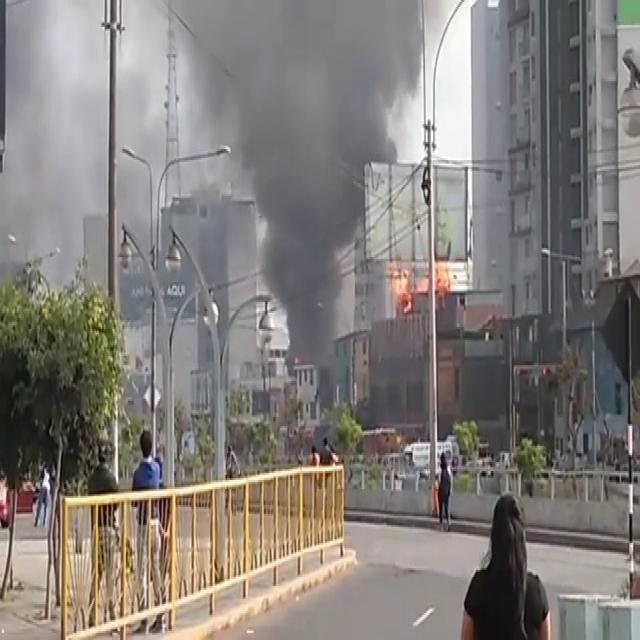Fire: (375, 252, 456, 338)
Smoke: (9, 0, 182, 358), (170, 0, 436, 151), (245, 144, 374, 374)
